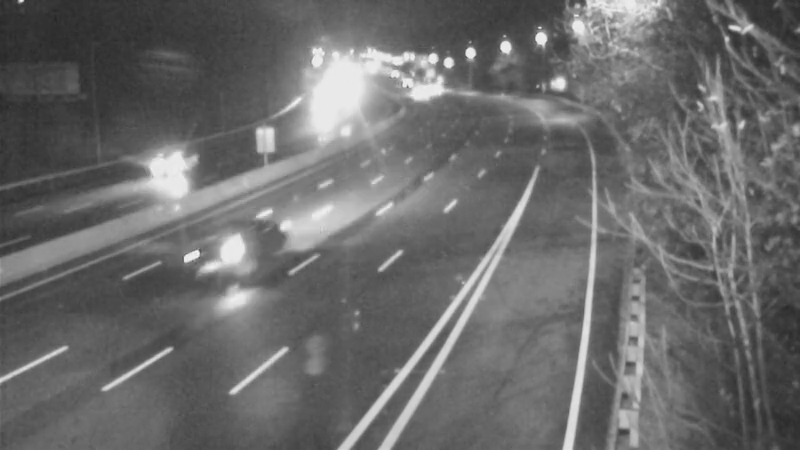vehicle: (185, 217, 265, 297), (125, 130, 205, 210), (383, 54, 433, 104), (409, 63, 459, 113), (393, 69, 443, 119)
